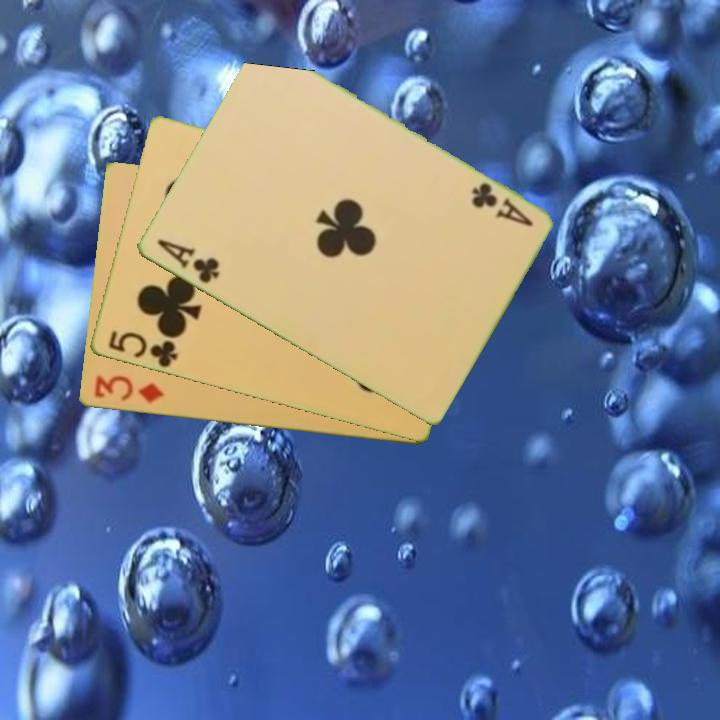3d: (90, 372, 167, 407)
5c: (104, 327, 180, 370)
Ac: (152, 235, 222, 287), (467, 179, 536, 230)
